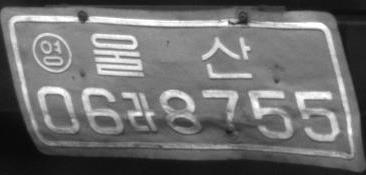0: (35, 85, 79, 134)
5: (246, 88, 294, 141), (294, 89, 341, 143)
6: (81, 85, 124, 135)
7: (203, 87, 240, 135)
8: (159, 88, 202, 135)
라: (124, 90, 158, 132)
영: (31, 31, 72, 74)
울산_D: (89, 31, 253, 78)
